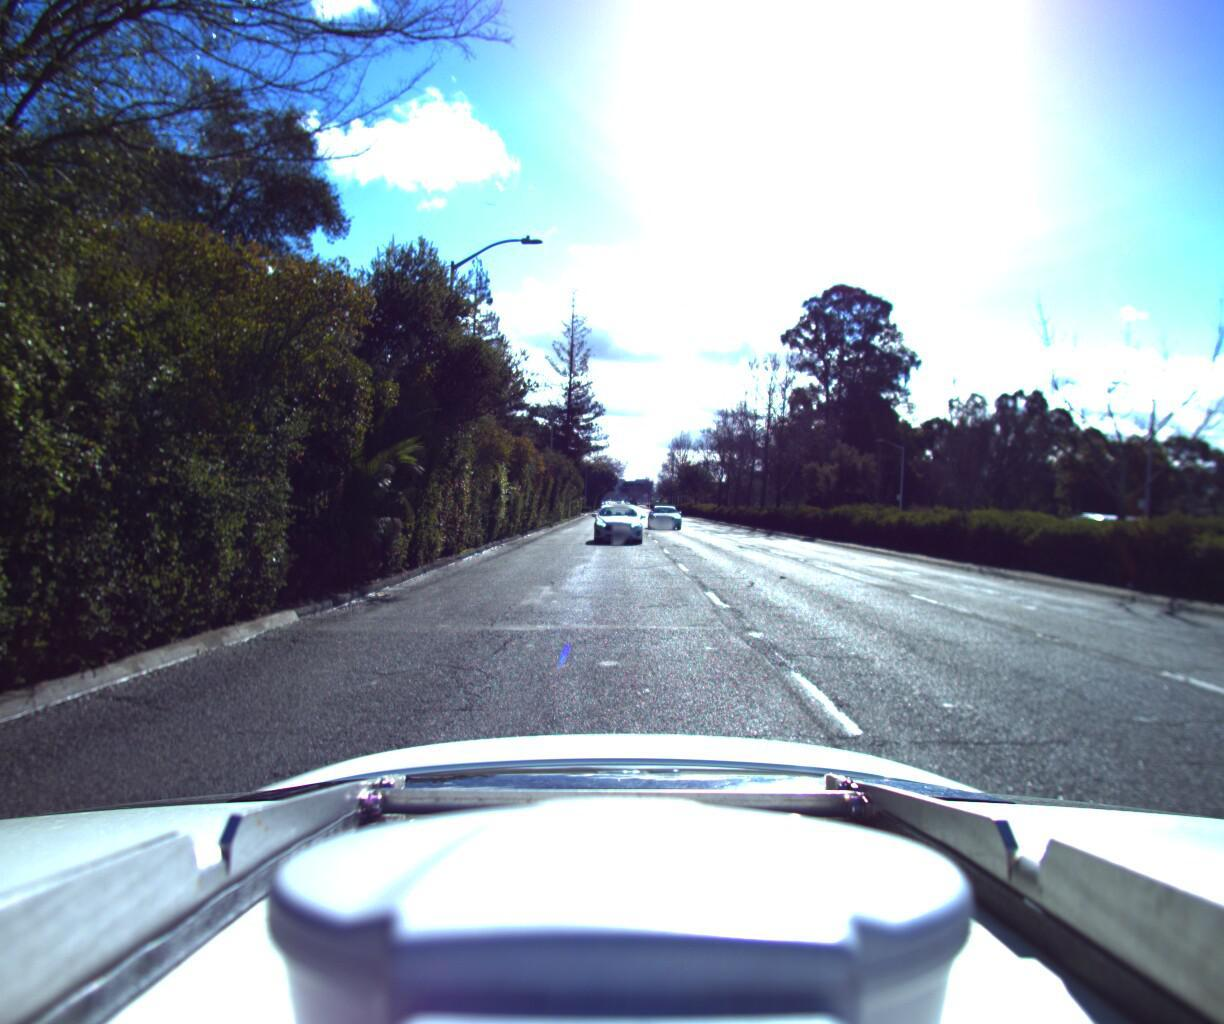car: (588, 496, 642, 539), (648, 500, 684, 529)
